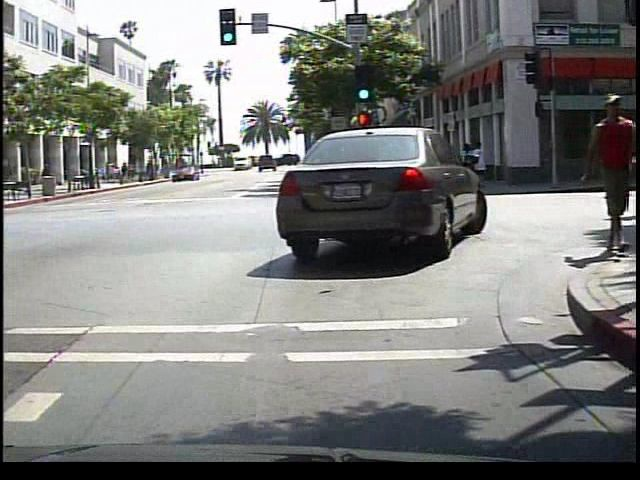person: (567, 83, 638, 263), (35, 159, 53, 190)
